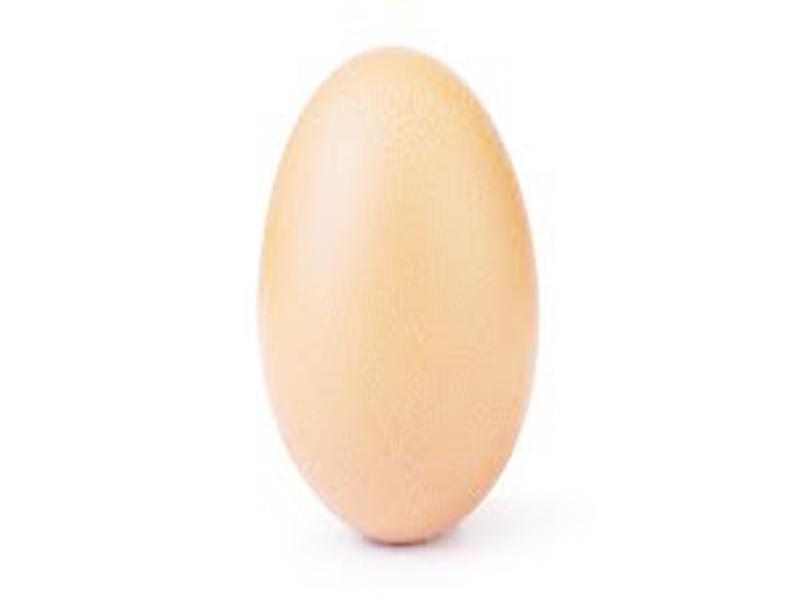Eggs: (261, 46, 536, 543)
